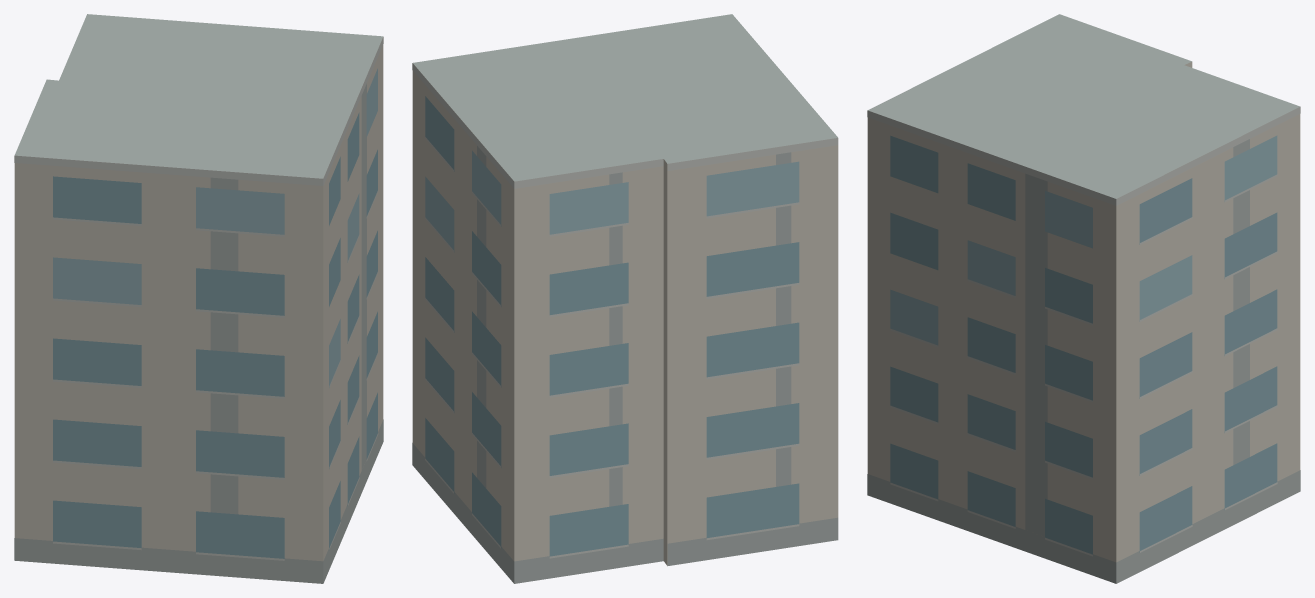
The model's file is survey-upis-32643979.glb.
3 views of the same model, side by side, from view 1: azimuth 30°, elevation 25°; view 2: azimuth 150°, elevation 25°; view 3: azimuth 270°, elevation 25° (orthographic). The views are drawn at different scales.
Parts seen in each view (by area): view 1: survey-upis-32643979.tmp; view 2: survey-upis-32643979.tmp; view 3: survey-upis-32643979.tmp.
Boxes of the visible parts, bbox=[...] form: survey-upis-32643979.tmp: bbox=[14, 14, 383, 583]; survey-upis-32643979.tmp: bbox=[412, 14, 838, 583]; survey-upis-32643979.tmp: bbox=[867, 14, 1300, 583].
Size of the model in its own units: 13.92 by 13.5 by 13.77.
